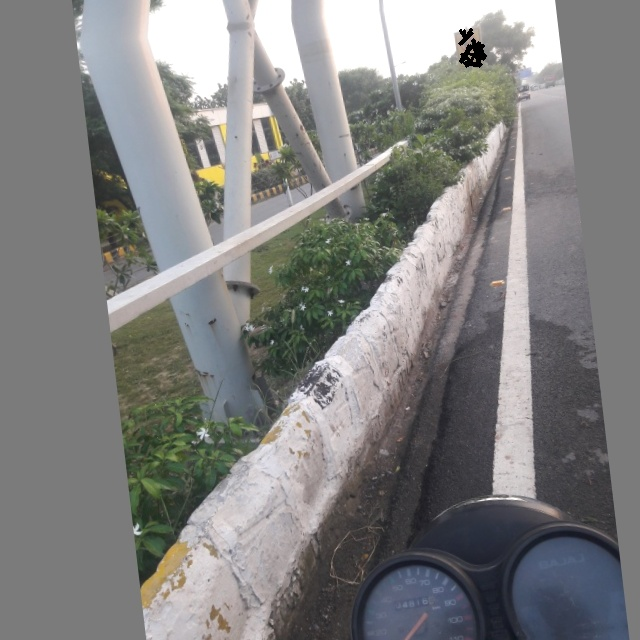U_Turn_Prohibited: (455, 28, 487, 65)
